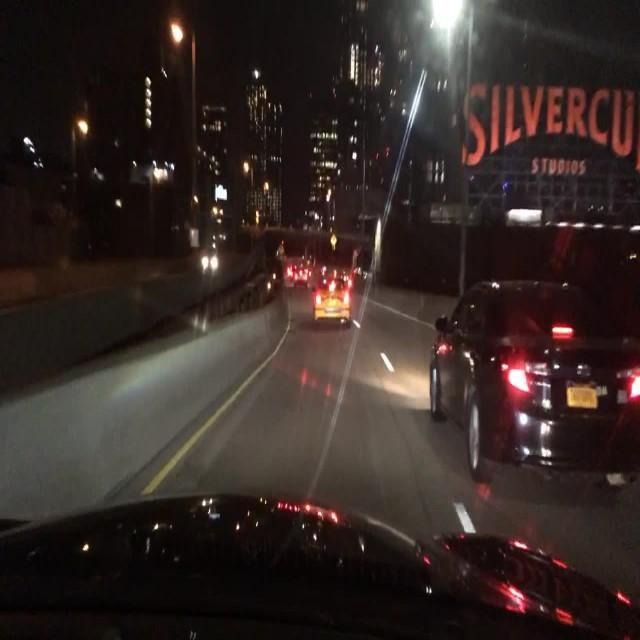normal: (406, 257, 640, 510), (301, 254, 363, 340)
